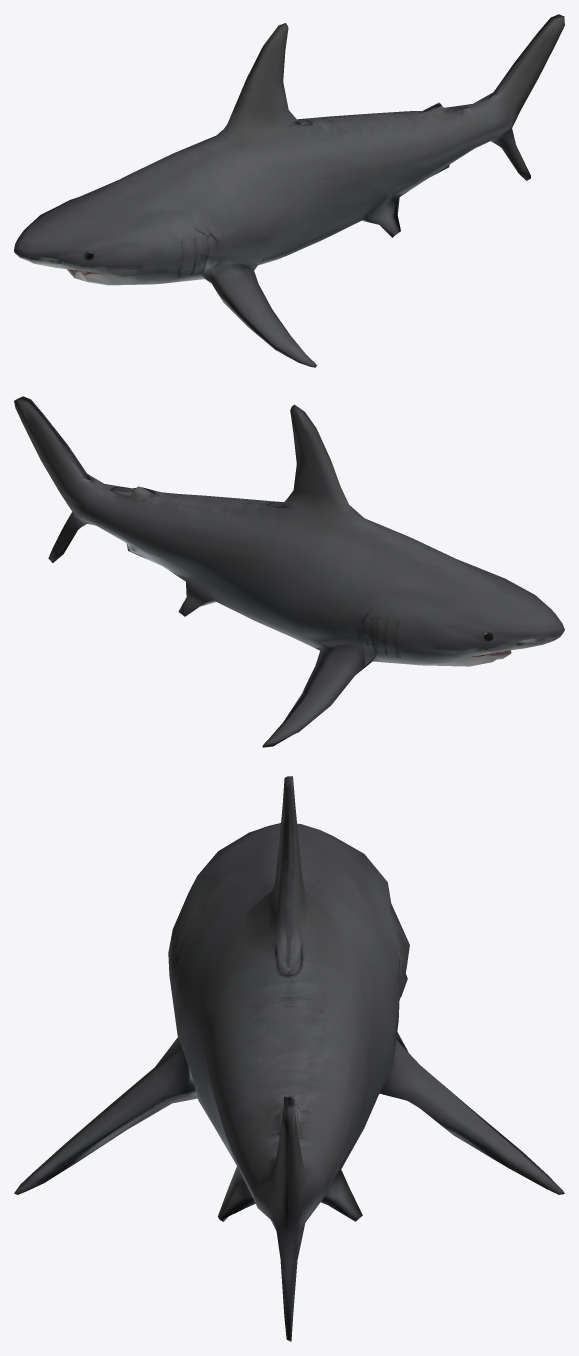
File: hammerhead.glb
The picture shows the model from 3 angles, top to bottom: view 1: azimuth 30°, elevation 25°; view 2: azimuth 150°, elevation 25°; view 3: azimuth 270°, elevation 25°; orthographic projection. The views are drawn at different scales.
Parts seen in each view (by area): view 1: tripo_node_43f888d8; view 2: tripo_node_43f888d8; view 3: tripo_node_43f888d8.
Part boxes in pixels (left/top/right/bottom): tripo_node_43f888d8: left=14, top=14, right=564, bottom=367; tripo_node_43f888d8: left=14, top=396, right=564, bottom=747; tripo_node_43f888d8: left=14, top=776, right=564, bottom=1341.
Size of the model in its own units: 93.39 by 44.26 by 48.08.
1 material, 1 textured.
